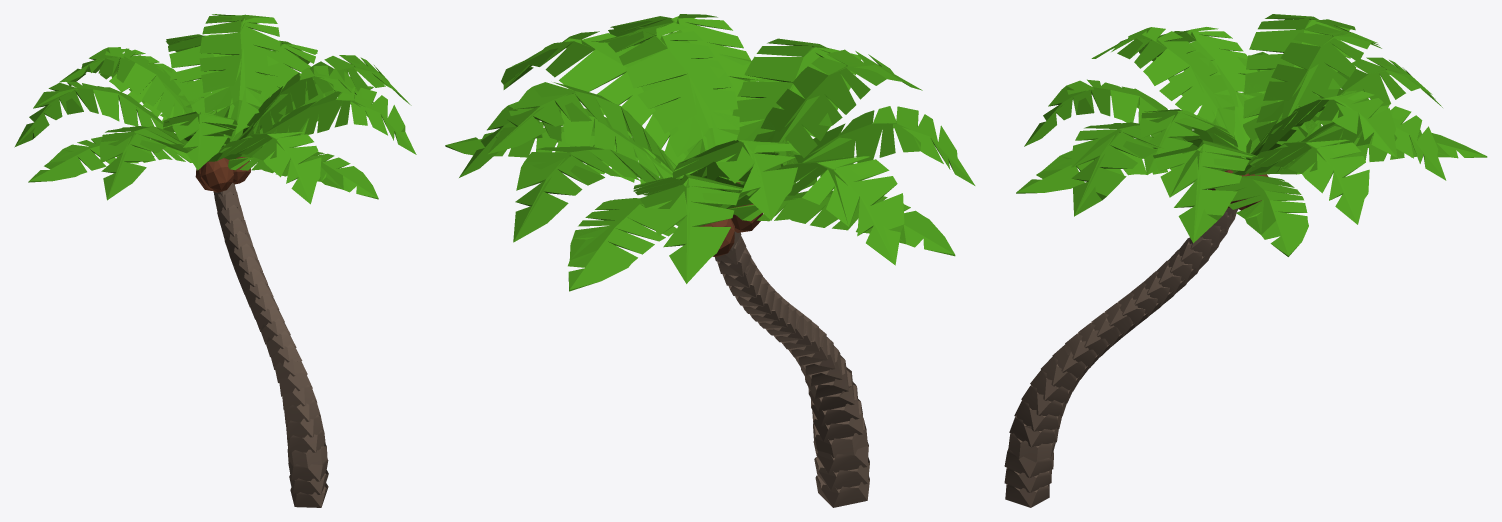
Rendered from tree.gltf.
3 views of the same model, side by side, from view 1: azimuth 30°, elevation 25°; view 2: azimuth 150°, elevation 25°; view 3: azimuth 270°, elevation 25° (orthographic). The views are drawn at different scales.
Visible parts, largest first — view 1: tronc.002; view 2: tronc.002; view 3: tronc.002.
Boxes of the visible parts, x1,y1,x2,y2 form: tronc.002: [14, 14, 416, 507]; tronc.002: [445, 14, 975, 507]; tronc.002: [1004, 14, 1487, 507].
Bounding box in the file's own units: 15.69 × 15.63 × 15.67.
